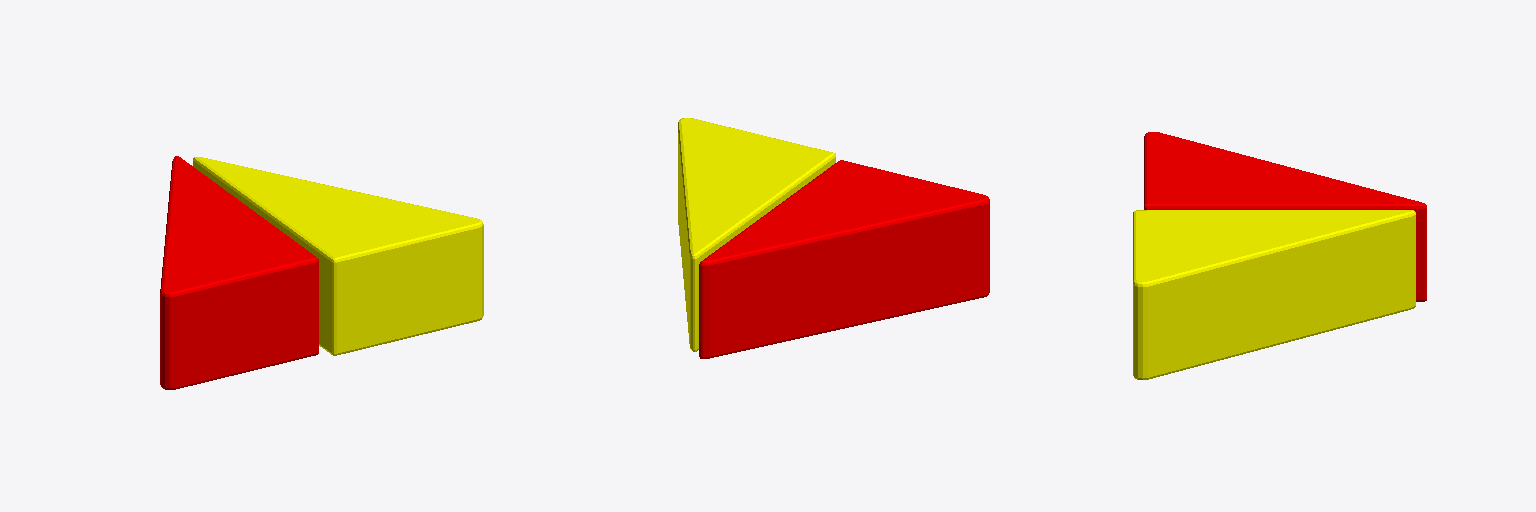
3 views of the same model, side by side, from view 1: azimuth 30°, elevation 25°; view 2: azimuth 150°, elevation 25°; view 3: azimuth 270°, elevation 25° (orthographic).
Parts seen in each view (by area): view 1: briks.004; view 2: briks.004; view 3: briks.004.
Boxes of the visible parts, x1=… form: briks.004: x1=160, y1=156, x2=483, y2=389; briks.004: x1=678, y1=118, x2=989, y2=358; briks.004: x1=1133, y1=132, x2=1426, y2=379.
Bounding box in the file's own units: 2.53 × 0.7508 × 2.05.
2 materials, 1 textured.